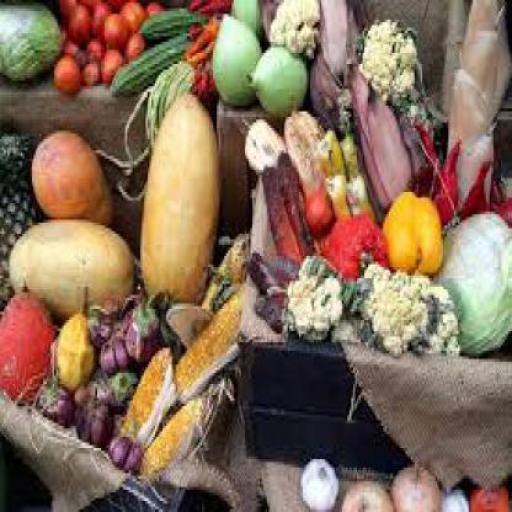biodegradable: (139, 88, 211, 306), (445, 0, 510, 212), (6, 214, 132, 323), (435, 208, 510, 351), (347, 53, 407, 212), (30, 128, 112, 228), (174, 289, 243, 401), (344, 259, 422, 356), (0, 275, 53, 407), (280, 103, 334, 231), (0, 130, 34, 308), (379, 184, 443, 278), (355, 17, 420, 109), (280, 254, 346, 340), (121, 342, 174, 448), (106, 31, 192, 95), (48, 281, 96, 390), (142, 392, 200, 482), (274, 142, 316, 262), (259, 158, 301, 273), (317, 206, 389, 273), (0, 0, 58, 81), (211, 8, 258, 103), (244, 250, 298, 332), (245, 42, 306, 114), (411, 270, 460, 356), (146, 56, 194, 142), (304, 48, 348, 134), (202, 231, 245, 317), (318, 0, 360, 81), (402, 89, 441, 161), (430, 139, 462, 225), (268, 0, 319, 53), (33, 370, 75, 431), (123, 292, 159, 362), (390, 459, 438, 510), (296, 453, 338, 509), (123, 84, 148, 178), (71, 392, 110, 446), (138, 8, 204, 39), (240, 118, 282, 166), (93, 320, 131, 370), (164, 300, 208, 342), (458, 159, 490, 214), (340, 476, 389, 509), (410, 122, 438, 176), (344, 169, 374, 217), (321, 167, 350, 215), (106, 432, 140, 470), (232, 0, 262, 42), (184, 17, 216, 56), (52, 53, 81, 95), (469, 478, 507, 510), (106, 368, 138, 406), (316, 119, 338, 170), (336, 128, 361, 172), (94, 142, 148, 161), (119, 0, 148, 33), (64, 2, 86, 44), (102, 11, 129, 44), (192, 58, 214, 98), (87, 0, 112, 33), (439, 481, 467, 510), (88, 312, 110, 348), (114, 172, 144, 198), (101, 48, 122, 80), (191, 0, 230, 17), (60, 36, 82, 64), (493, 192, 510, 228), (82, 33, 103, 62), (411, 166, 430, 198), (82, 58, 101, 80), (56, 0, 78, 17), (122, 34, 138, 56), (144, 0, 164, 15), (103, 0, 121, 11)
